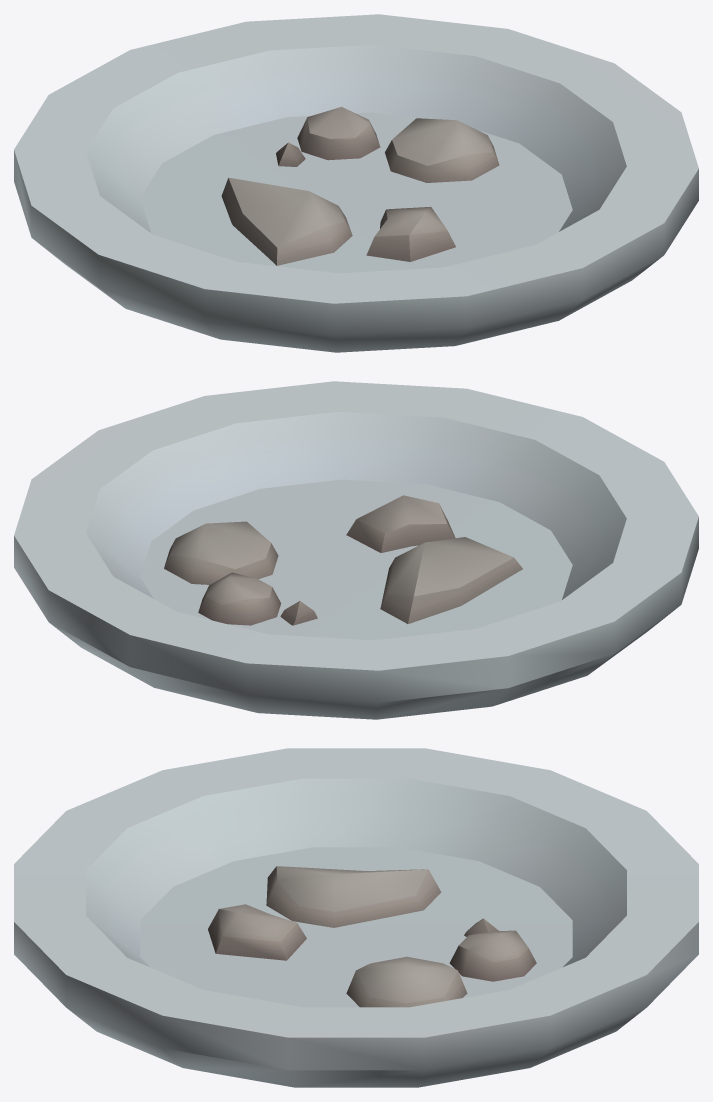
File: kkr.plate_dirty.glb
The picture shows the model from 3 angles, top to bottom: view 1: azimuth 30°, elevation 25°; view 2: azimuth 150°, elevation 25°; view 3: azimuth 270°, elevation 25°; orthographic projection.
Parts seen in each view (by area): view 1: plate_dirty; view 2: plate_dirty; view 3: plate_dirty.
Part boxes in pixels (left/top/right/bottom): plate_dirty: left=14, top=14, right=698, bottom=352; plate_dirty: left=14, top=381, right=698, bottom=719; plate_dirty: left=14, top=748, right=698, bottom=1087.
Bounding box in the file's own units: 0.2619 × 0.0276 × 0.2619.
1 material, 1 textured.
